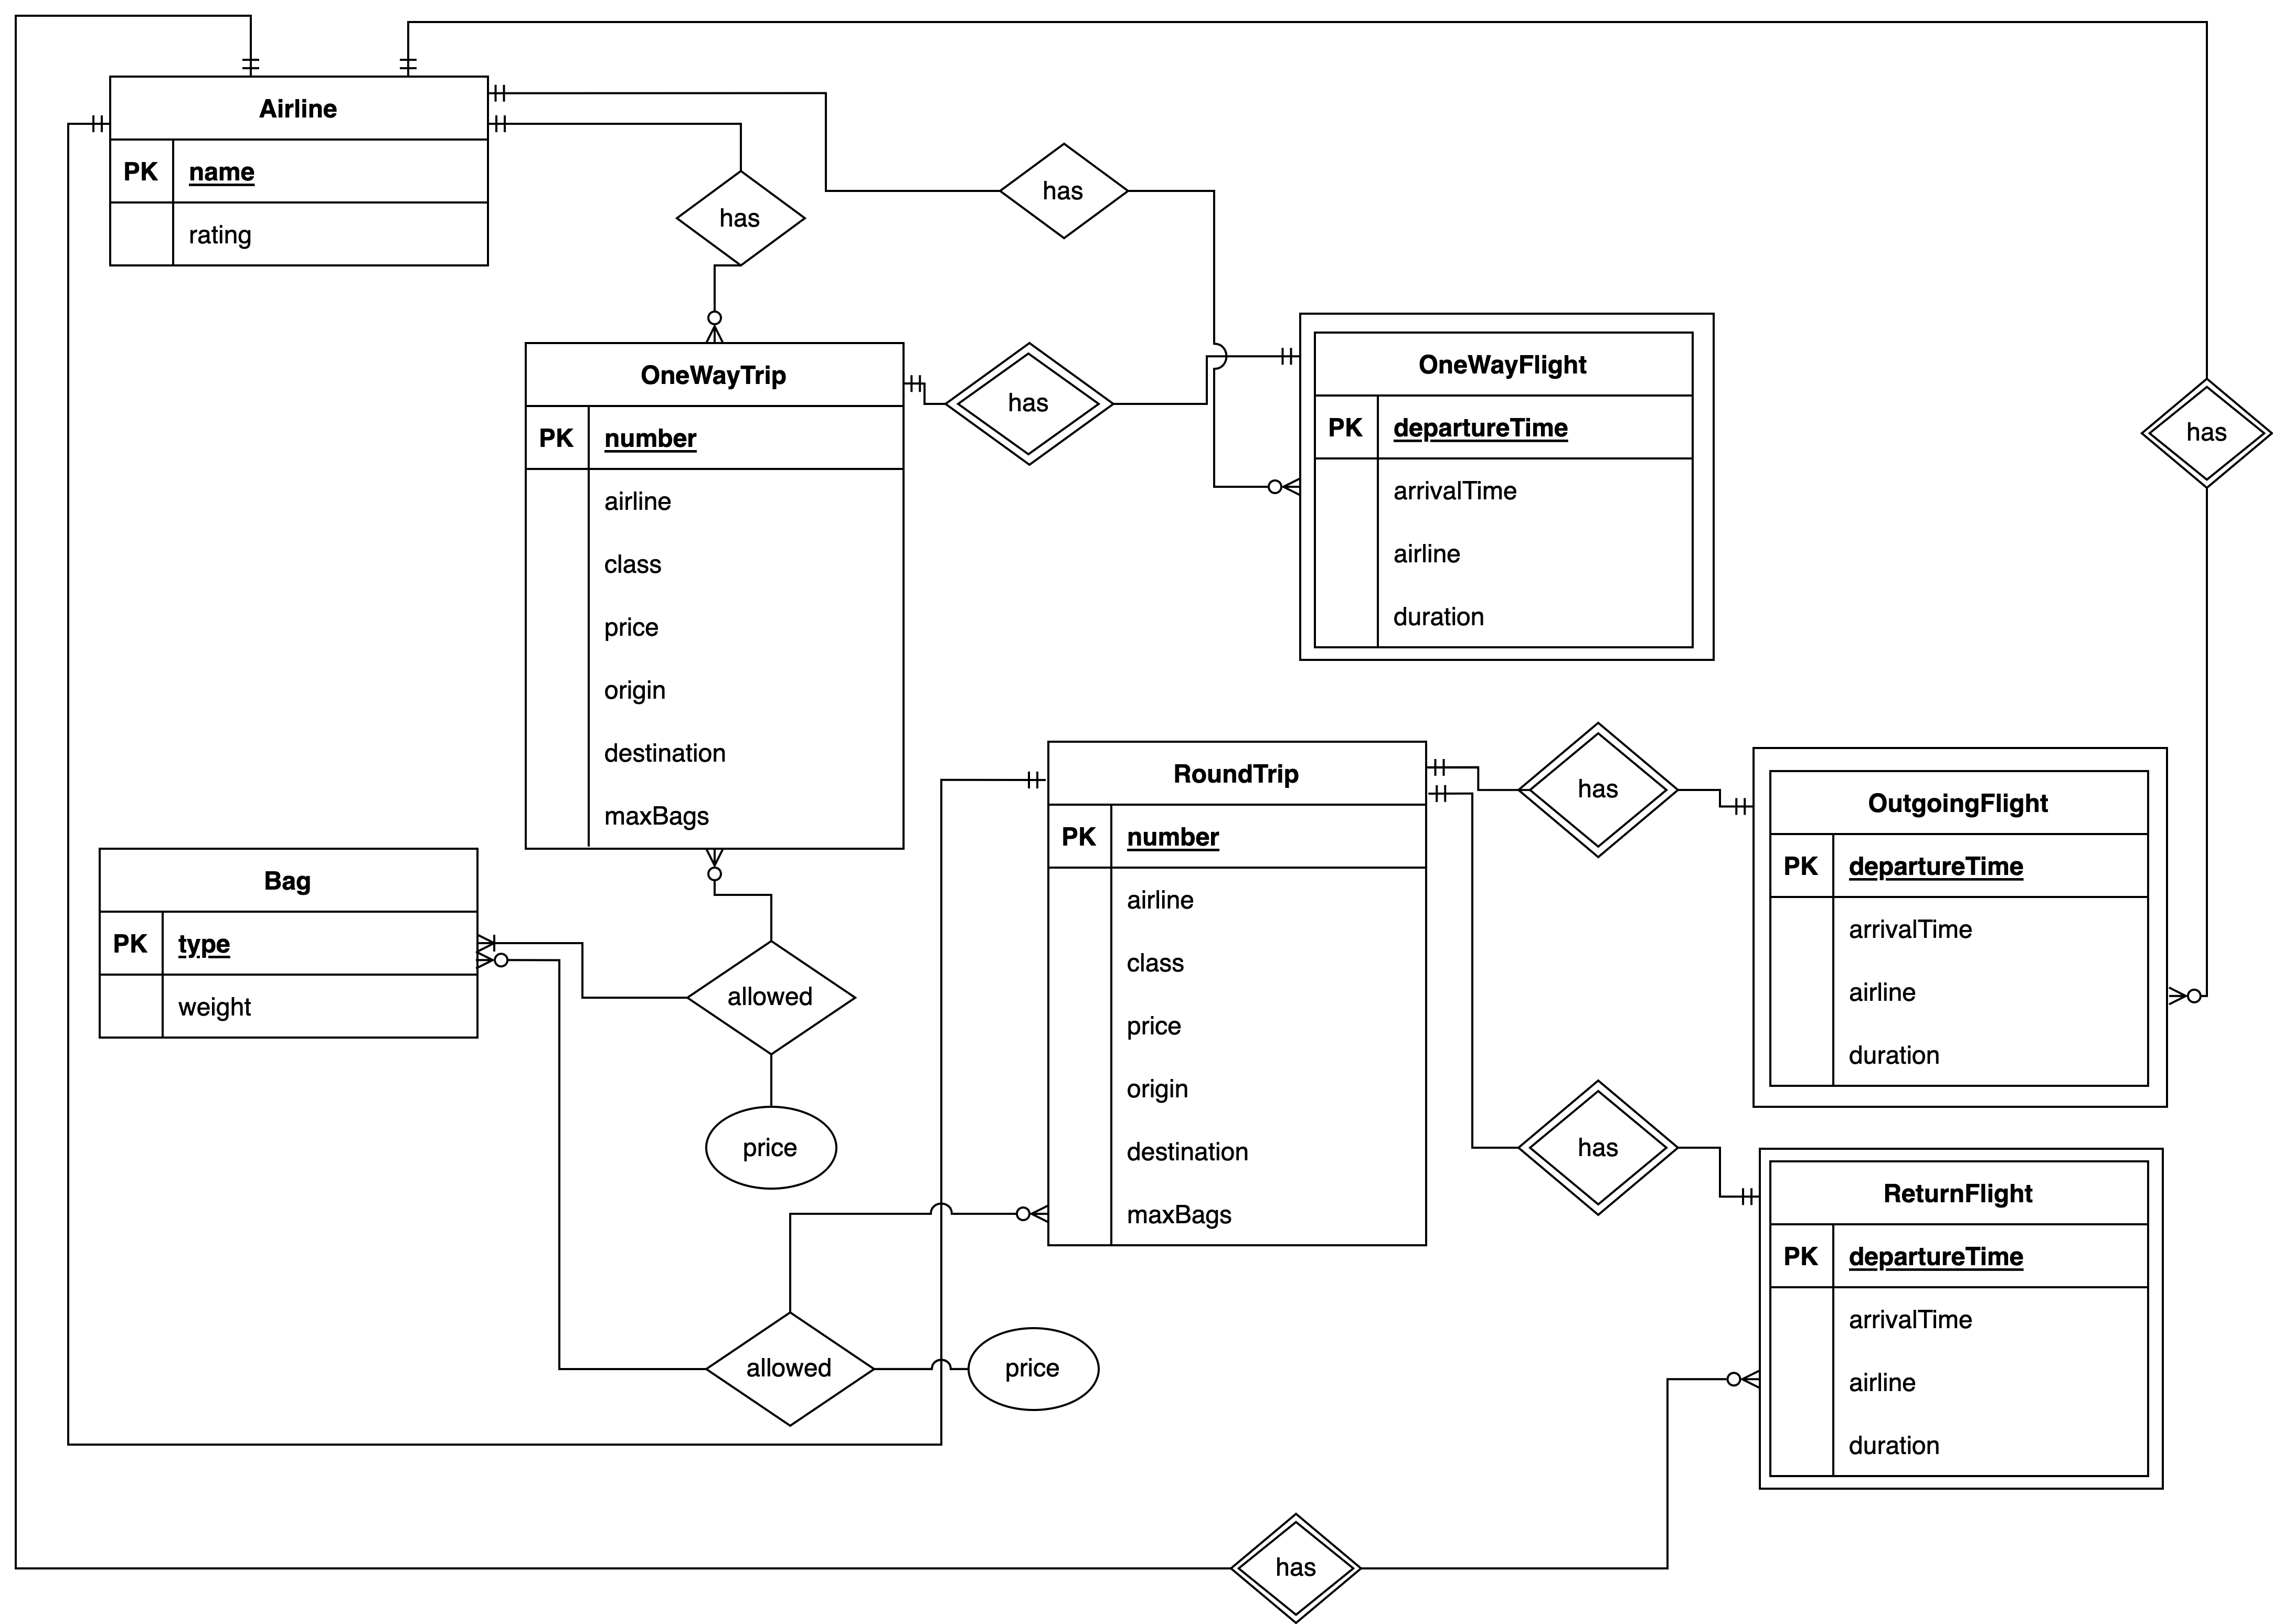entity: (524, 343, 904, 852), (1048, 745, 1426, 1246), (109, 74, 492, 264), (100, 852, 475, 1039)
ident_rel: (944, 339, 1116, 469), (1519, 1079, 1679, 1216), (1517, 724, 1674, 859), (1231, 1512, 1362, 1622), (2143, 376, 2273, 487)
many: (953, 1200, 1046, 1229), (476, 930, 582, 954), (1665, 1367, 1758, 1392), (1215, 476, 1299, 503), (476, 947, 559, 974), (2168, 984, 2208, 1012), (707, 849, 726, 898)
one: (939, 768, 1048, 794), (904, 371, 946, 410), (1227, 346, 1297, 369), (1424, 756, 1478, 780), (487, 83, 552, 102), (485, 116, 552, 134), (241, 18, 260, 77), (399, 23, 418, 77), (67, 112, 111, 135), (1426, 786, 1471, 805), (1721, 1188, 1760, 1209), (1719, 791, 1754, 814)
rel: (707, 1309, 875, 1425), (693, 942, 856, 1053), (1000, 142, 1130, 243), (677, 170, 803, 264)
rel_attr: (967, 1329, 1102, 1413), (707, 1107, 839, 1190)
weak_entity: (1753, 743, 2166, 1113), (1297, 315, 1716, 659), (1760, 1149, 2166, 1496)
